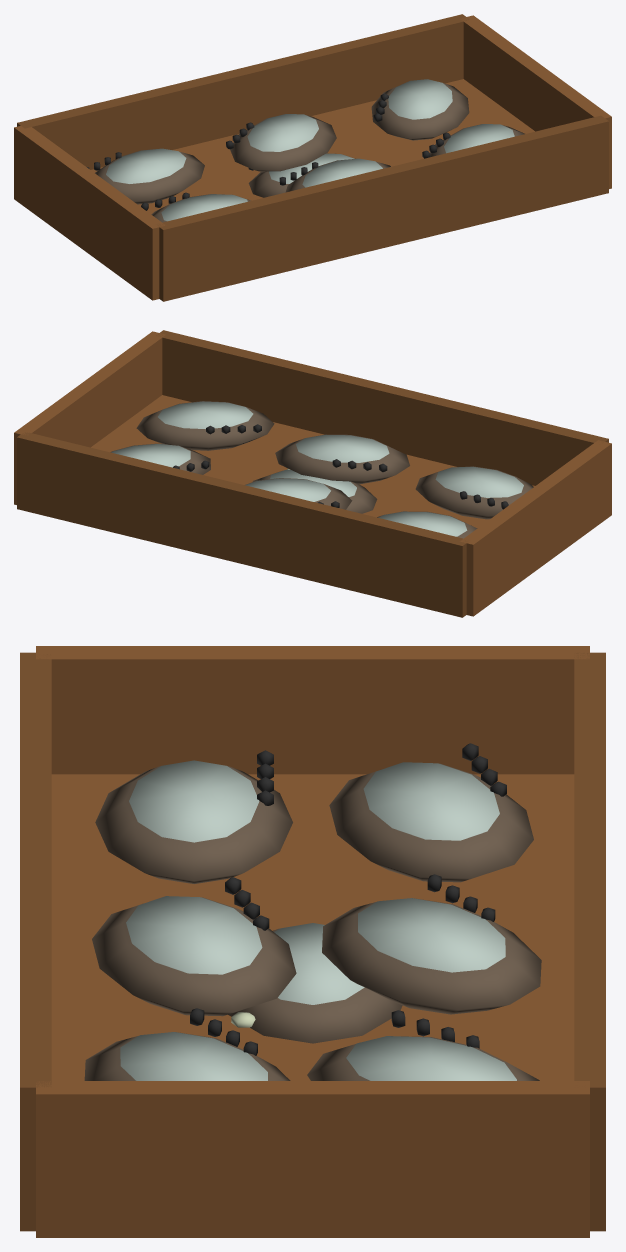
Rendered from Sea_Abalone.fbx.
3 renders of one model, top to bottom at view 1: azimuth 30°, elevation 25°; view 2: azimuth 150°, elevation 25°; view 3: azimuth 270°, elevation 25°, orthographic. The views are drawn at different scales.
Parts seen in each view (by area): view 1: Sea_Abalone__Stack, Sea_Abalone; view 2: Sea_Abalone__Stack, Sea_Abalone; view 3: Sea_Abalone__Stack, Sea_Abalone.
Part boxes in pixels (bbox=[...]): Sea_Abalone__Stack: bbox=[14, 14, 611, 301]; Sea_Abalone: bbox=[248, 153, 355, 197]; Sea_Abalone__Stack: bbox=[14, 330, 611, 617]; Sea_Abalone: bbox=[252, 469, 377, 513]; Sea_Abalone__Stack: bbox=[20, 646, 605, 1237]; Sea_Abalone: bbox=[228, 923, 402, 1043].
Size of the model in its own units: 0.268 by 0.04 by 0.148.
